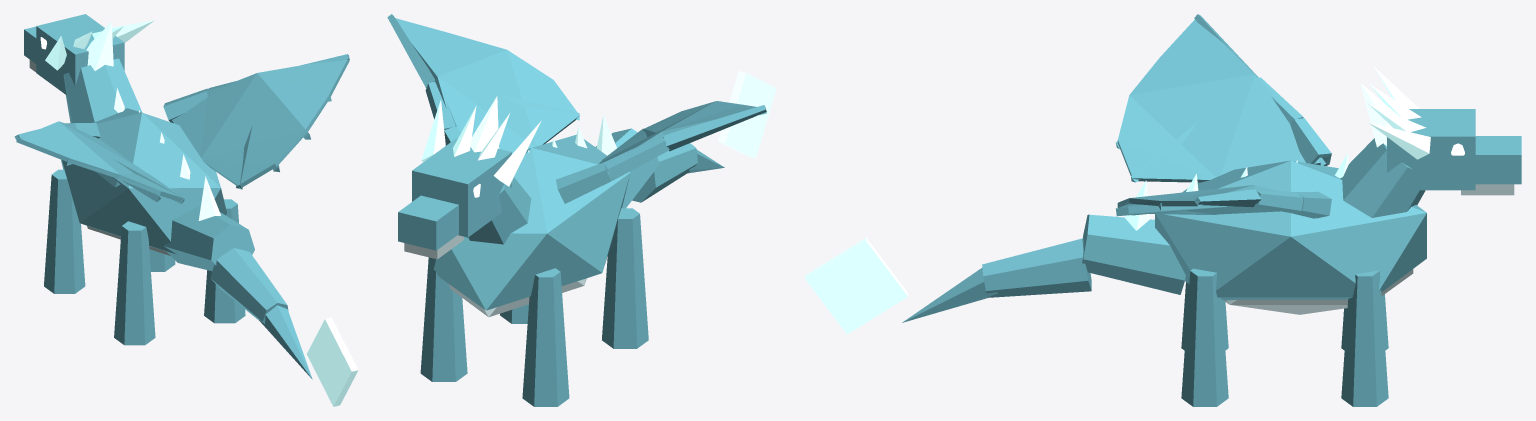
File: dragon_crystal.glb
3 views of the same model, side by side, from view 1: azimuth 30°, elevation 25°; view 2: azimuth 150°, elevation 25°; view 3: azimuth 270°, elevation 25° (orthographic). The views are drawn at different scales.
Parts seen in each view (by area): view 1: DragonBody; view 2: DragonBody; view 3: DragonBody.
Boxes of the visible parts, box(x1,y1,x2,y2) form: DragonBody: box(14, 14, 358, 406); DragonBody: box(387, 14, 776, 406); DragonBody: box(805, 14, 1521, 406).
Bounding box in the file's own units: 3.12 × 2.27 × 5.08.
